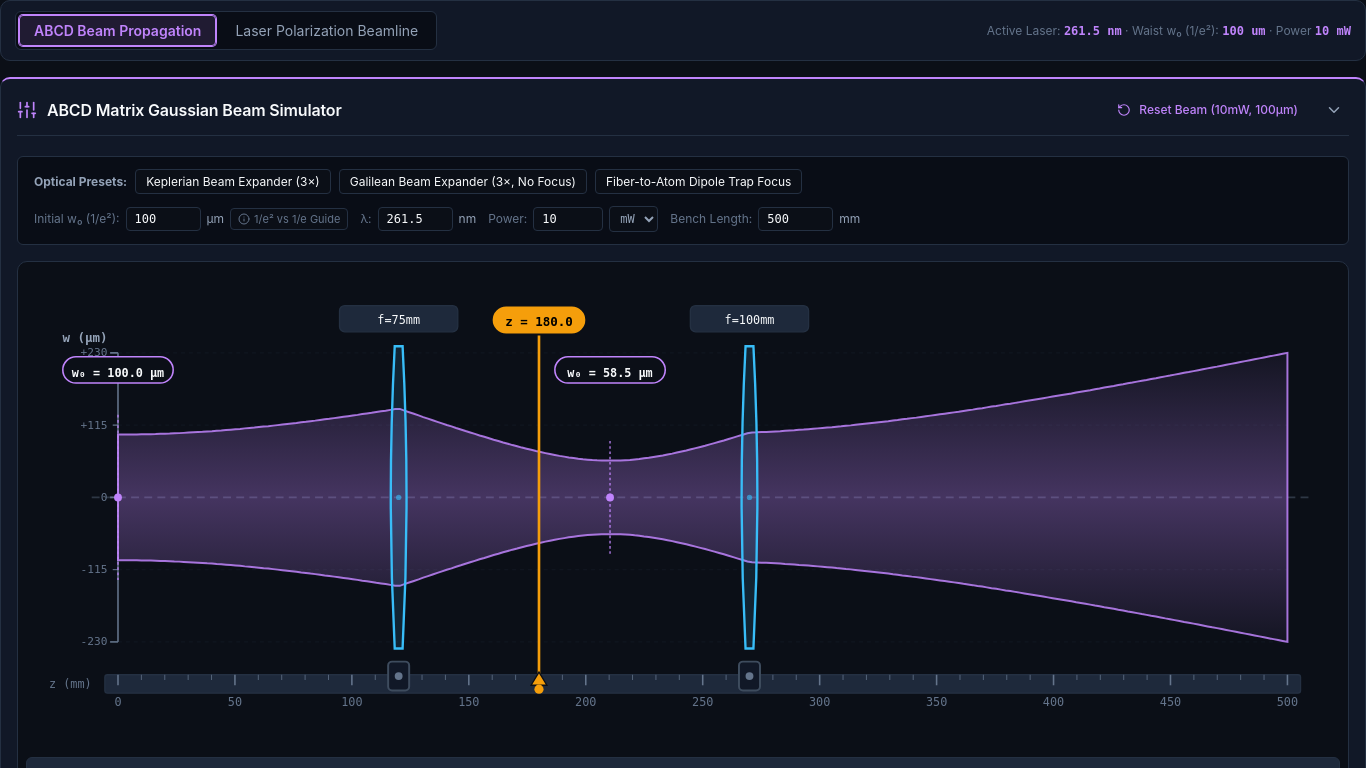
LaserBeamConverter ABCD Matrix Propagation Bench Integration › renders ABCD Beam Propagation bench by default and switches to Laser Polarization
Expected: the heading "ABCD Matrix Gaussian Beam Simulator" is shown, [47, 100, 342, 120]
Expected: the button "Keplerian Beam Expander (3×)" is shown, [135, 169, 331, 194]
Switch toggle to Laser Polarization Beamline
Click the button "Laser Polarization Beamline": click(327, 30) [220, 15, 433, 46]
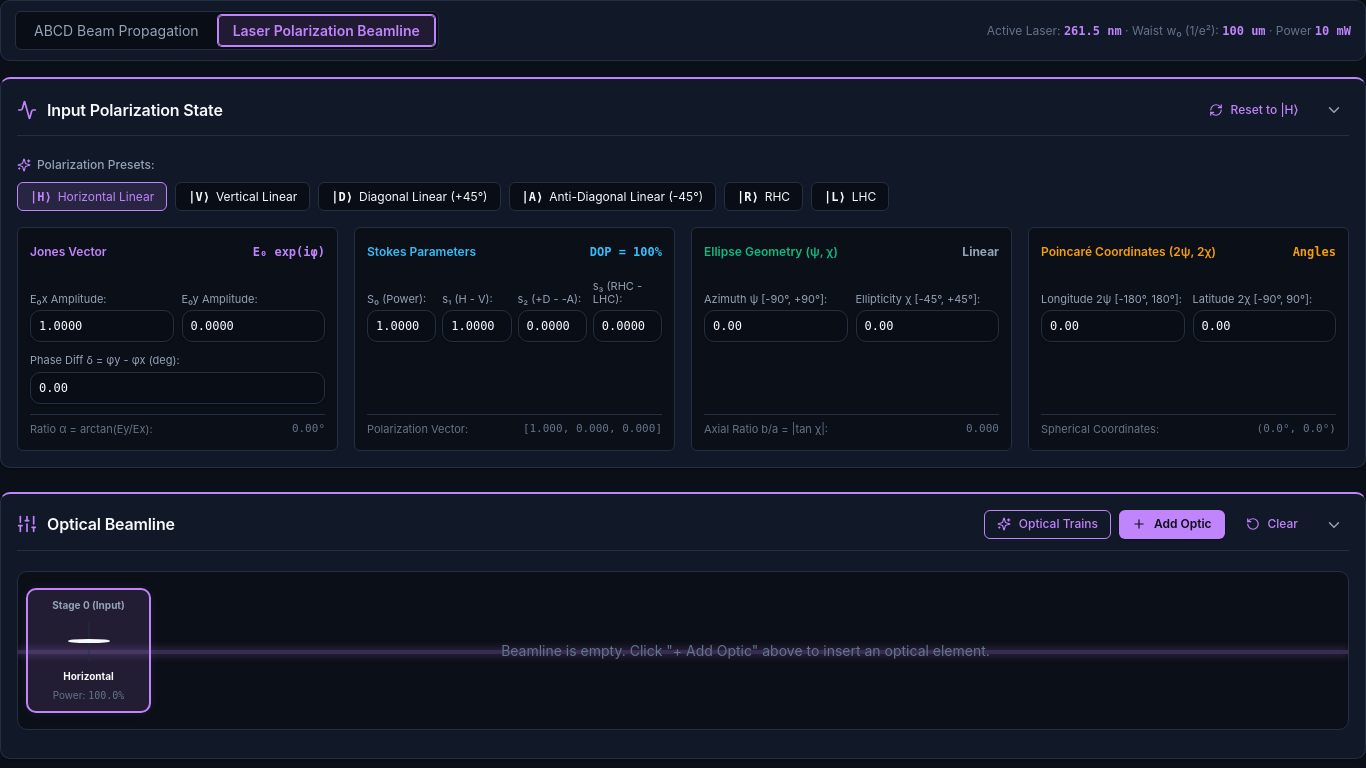
Now the heading "Input Polarization State" is shown, box [47, 100, 223, 120]
